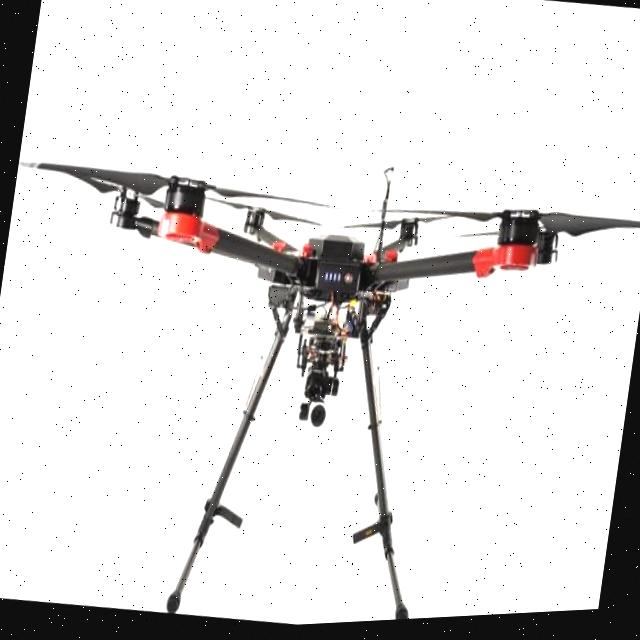drone: (17, 111, 640, 411)
